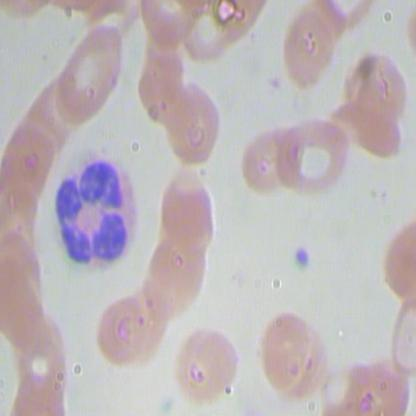Platelets: (286, 245, 322, 275)
RBC: (46, 20, 130, 126), (157, 75, 233, 172), (90, 277, 169, 370), (166, 316, 245, 409), (148, 167, 226, 260), (12, 61, 84, 161), (135, 230, 213, 322), (254, 309, 332, 401), (336, 49, 415, 128), (276, 119, 354, 198), (1, 111, 57, 218), (274, 7, 342, 93), (329, 95, 406, 170), (1, 168, 51, 276), (237, 124, 301, 198), (16, 308, 68, 398), (1, 229, 49, 317), (1, 269, 49, 357), (138, 42, 190, 123), (179, 1, 237, 64), (7, 367, 67, 415), (135, 1, 195, 44)
WBC: (49, 155, 146, 273)
